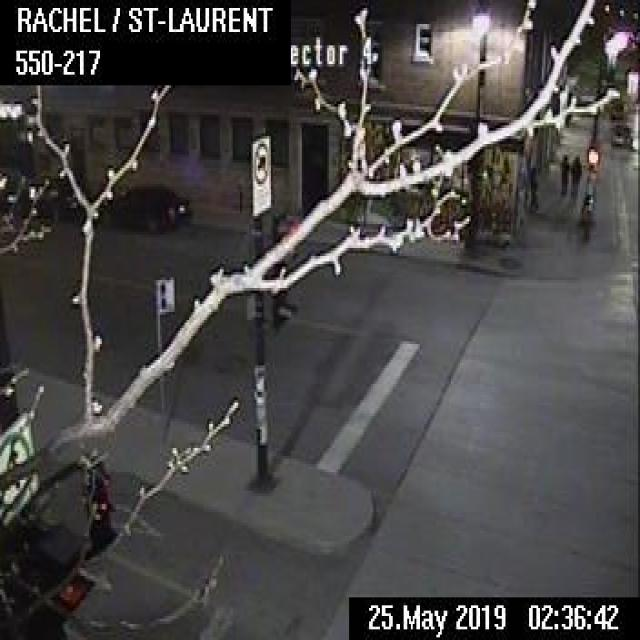pedestrian: (524, 165, 538, 210), (568, 152, 580, 196), (558, 154, 568, 194)
vehicle: (91, 178, 187, 234), (16, 173, 93, 213)
